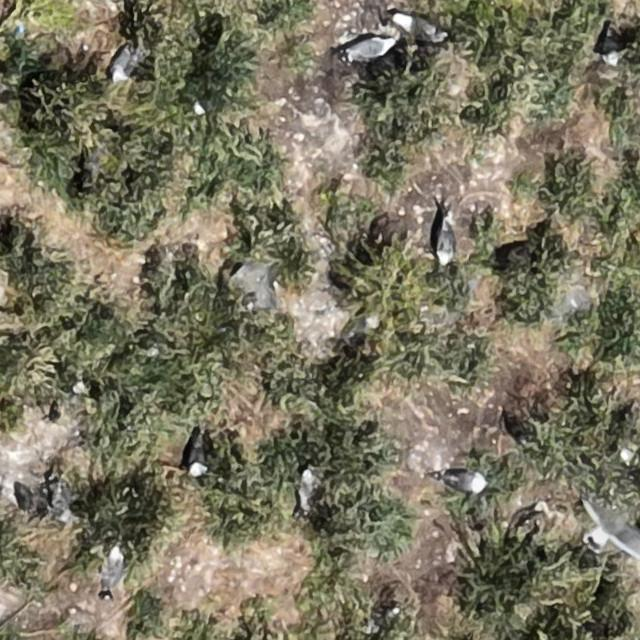F: (586, 499, 638, 560)
umineko: (348, 37, 394, 59), (398, 14, 439, 36), (444, 472, 487, 492), (112, 47, 134, 80), (437, 222, 455, 262), (105, 550, 123, 589), (189, 439, 207, 475), (298, 471, 314, 507), (602, 35, 618, 64)
